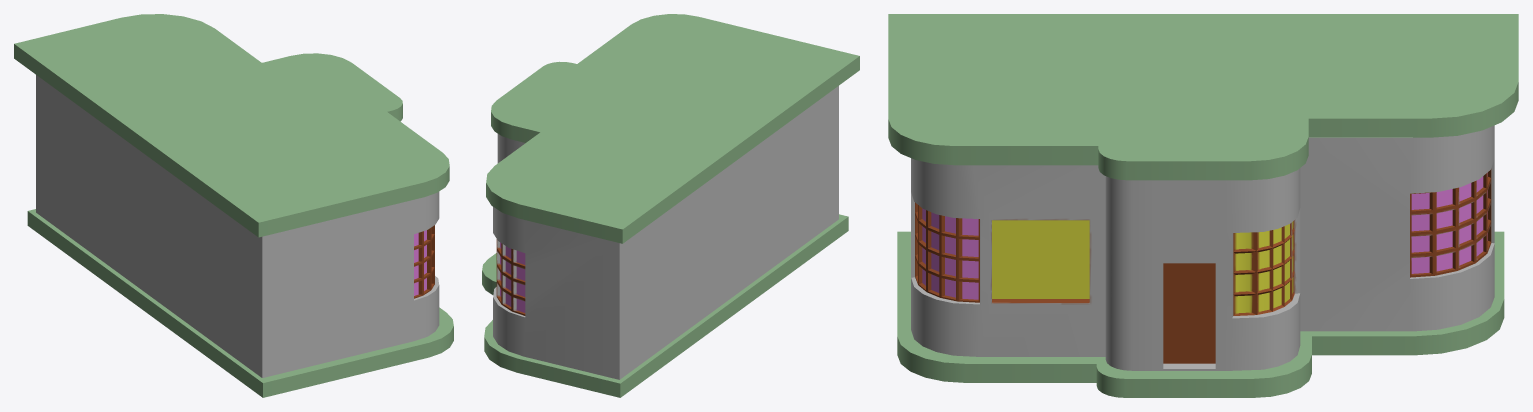
File: house_02.fbx
The picture shows the model from 3 angles, left to right: view 1: azimuth 30°, elevation 25°; view 2: azimuth 150°, elevation 25°; view 3: azimuth 270°, elevation 25°; orthographic projection. The views are drawn at different scales.
Visible parts, largest first — view 1: house.002, Cube.027, Cube.001; view 2: Cube.027, house.002, Cube.001; view 3: house.002, Cube.027, Cube.001.
Boxes of the visible parts, bbox=[...] form: house.002: bbox=[36, 75, 439, 377]; Cube.027: bbox=[14, 14, 449, 237]; Cube.001: bbox=[27, 209, 453, 397]; Cube.027: bbox=[486, 14, 859, 243]; house.002: bbox=[493, 86, 838, 379]; Cube.001: bbox=[482, 214, 848, 397]; house.002: bbox=[911, 125, 1494, 370]; Cube.027: bbox=[888, 14, 1518, 180]; Cube.001: bbox=[897, 231, 1504, 397].
Size of the model in its own units: 222 by 158 by 389.
1 material, 1 textured.
